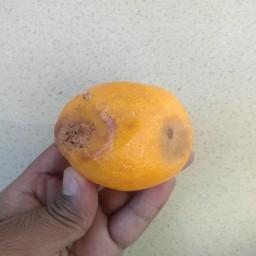Bad_orange: (51, 76, 197, 192)
